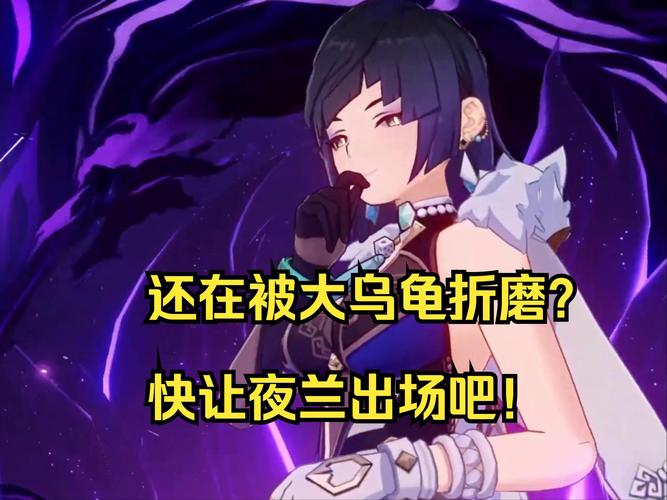夜兰: (221, 2, 603, 500)
